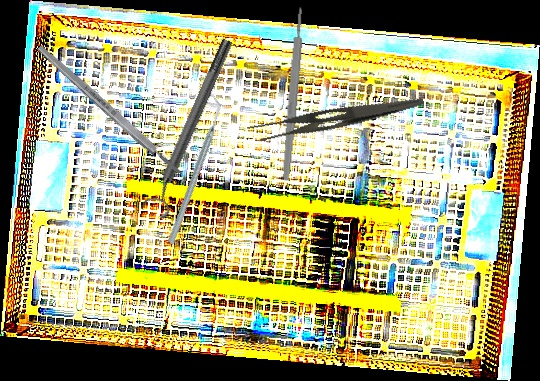Chopper: (120, 95, 268, 247)
Dressing Forceps: (246, 78, 425, 152)
Fixation Ring: (137, 34, 244, 221)
Scalpel Handle: (35, 43, 184, 177), (280, 6, 307, 182)
